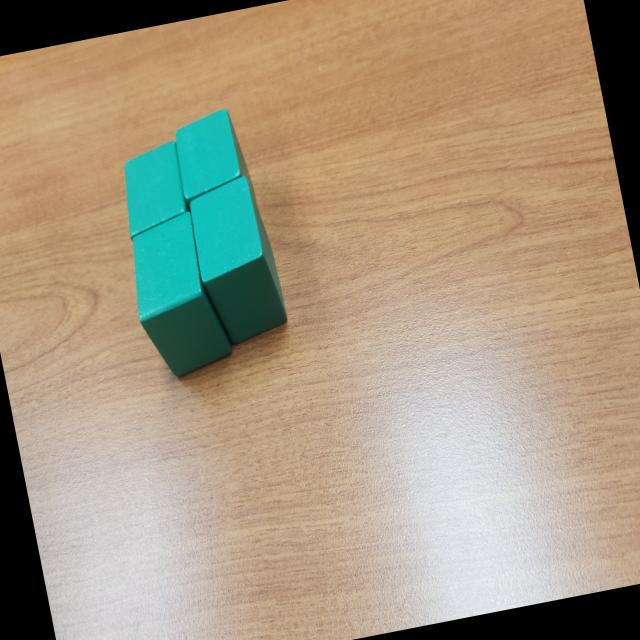green: (120, 207, 236, 383), (184, 172, 292, 350), (168, 106, 258, 227), (113, 140, 195, 243)
